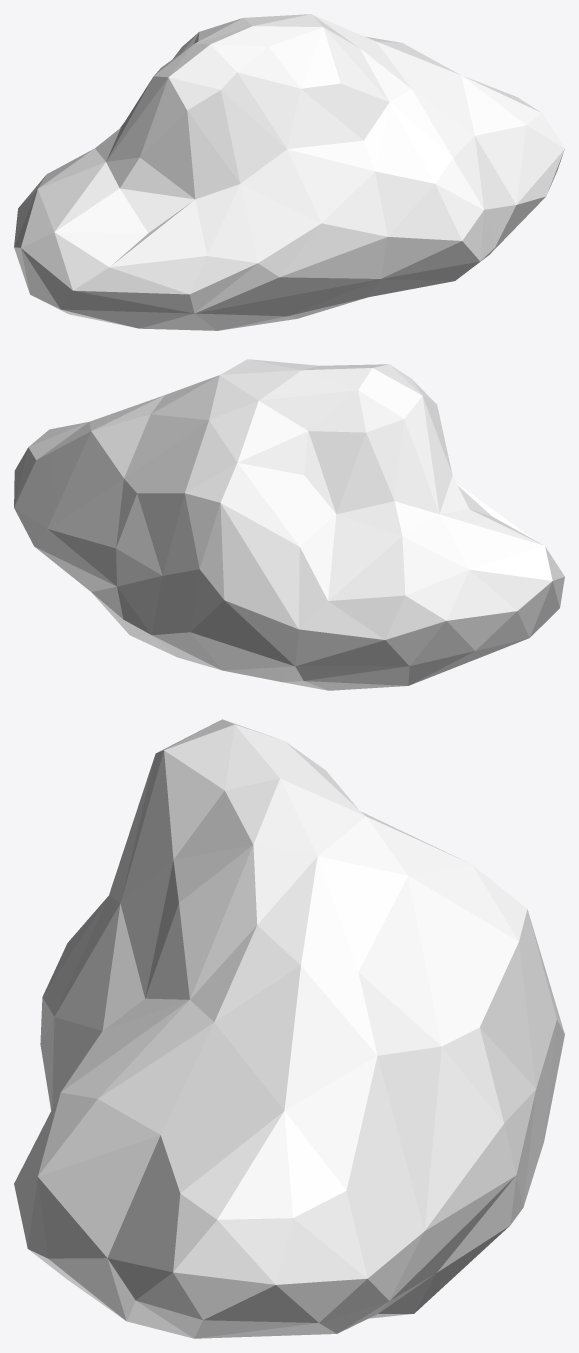
The model's file is Cloud_02.fbx.
The picture shows the model from 3 angles, top to bottom: view 1: azimuth 30°, elevation 25°; view 2: azimuth 150°, elevation 25°; view 3: azimuth 270°, elevation 25°; orthographic projection. The views are drawn at different scales.
Parts seen in each view (by area): view 1: Cloud_02; view 2: Cloud_02; view 3: Cloud_02.
Part boxes in pixels (bbox=[...]): Cloud_02: bbox=[14, 14, 564, 330]; Cloud_02: bbox=[14, 359, 564, 690]; Cloud_02: bbox=[14, 719, 564, 1338].
Bounding box in the file's own units: 431 × 222 × 239.
